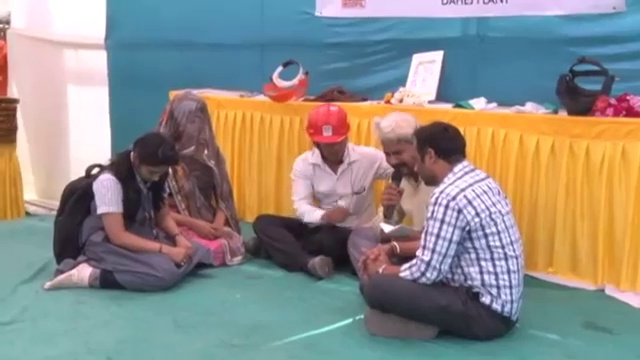helmet: (309, 100, 355, 144)
helmet_off: (412, 119, 467, 191), (162, 93, 215, 154), (124, 132, 178, 190), (377, 110, 421, 178)
helmet_on: (301, 106, 356, 169)
person: (338, 113, 526, 334), (46, 132, 195, 294), (253, 99, 382, 273), (152, 85, 244, 271), (343, 107, 438, 281)
